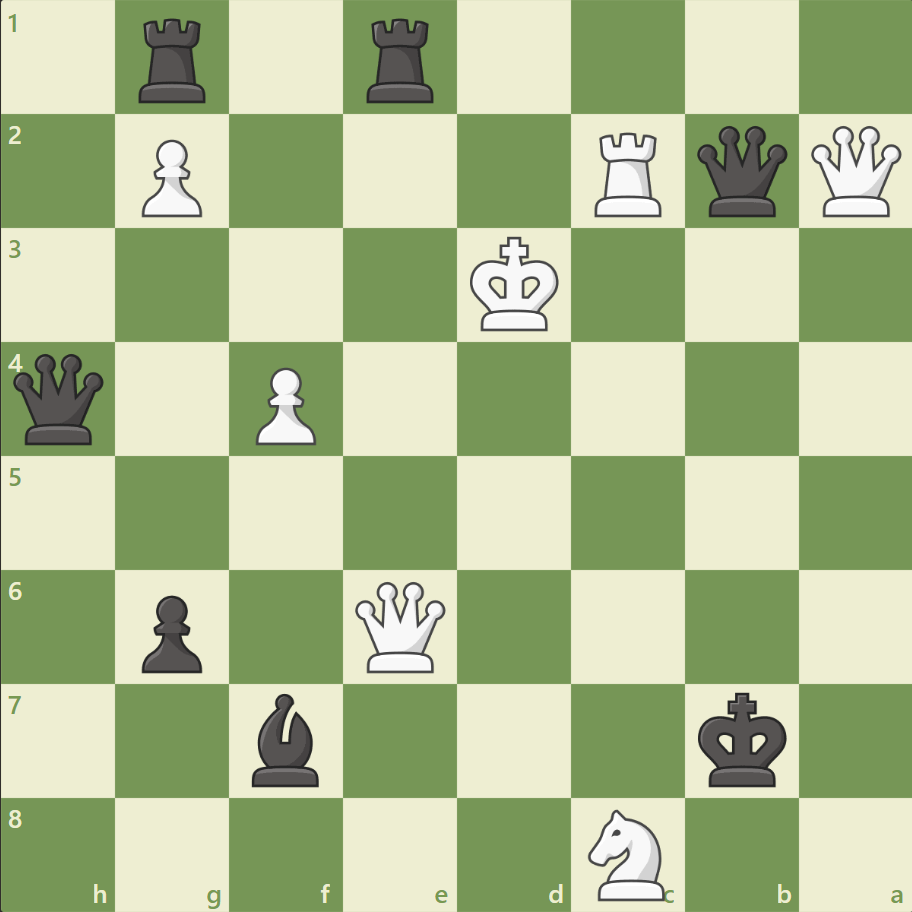K: (465, 231, 565, 339)
N: (579, 802, 676, 904)
P: (247, 359, 322, 450), (133, 132, 208, 223)
Q: (351, 576, 450, 676), (805, 122, 904, 222)
R: (587, 125, 670, 222)
b: (244, 687, 328, 790)
k: (692, 685, 792, 793)
p: (133, 586, 208, 677)
q: (10, 349, 109, 449), (691, 122, 790, 222)
r: (360, 12, 442, 109), (133, 12, 215, 109)
